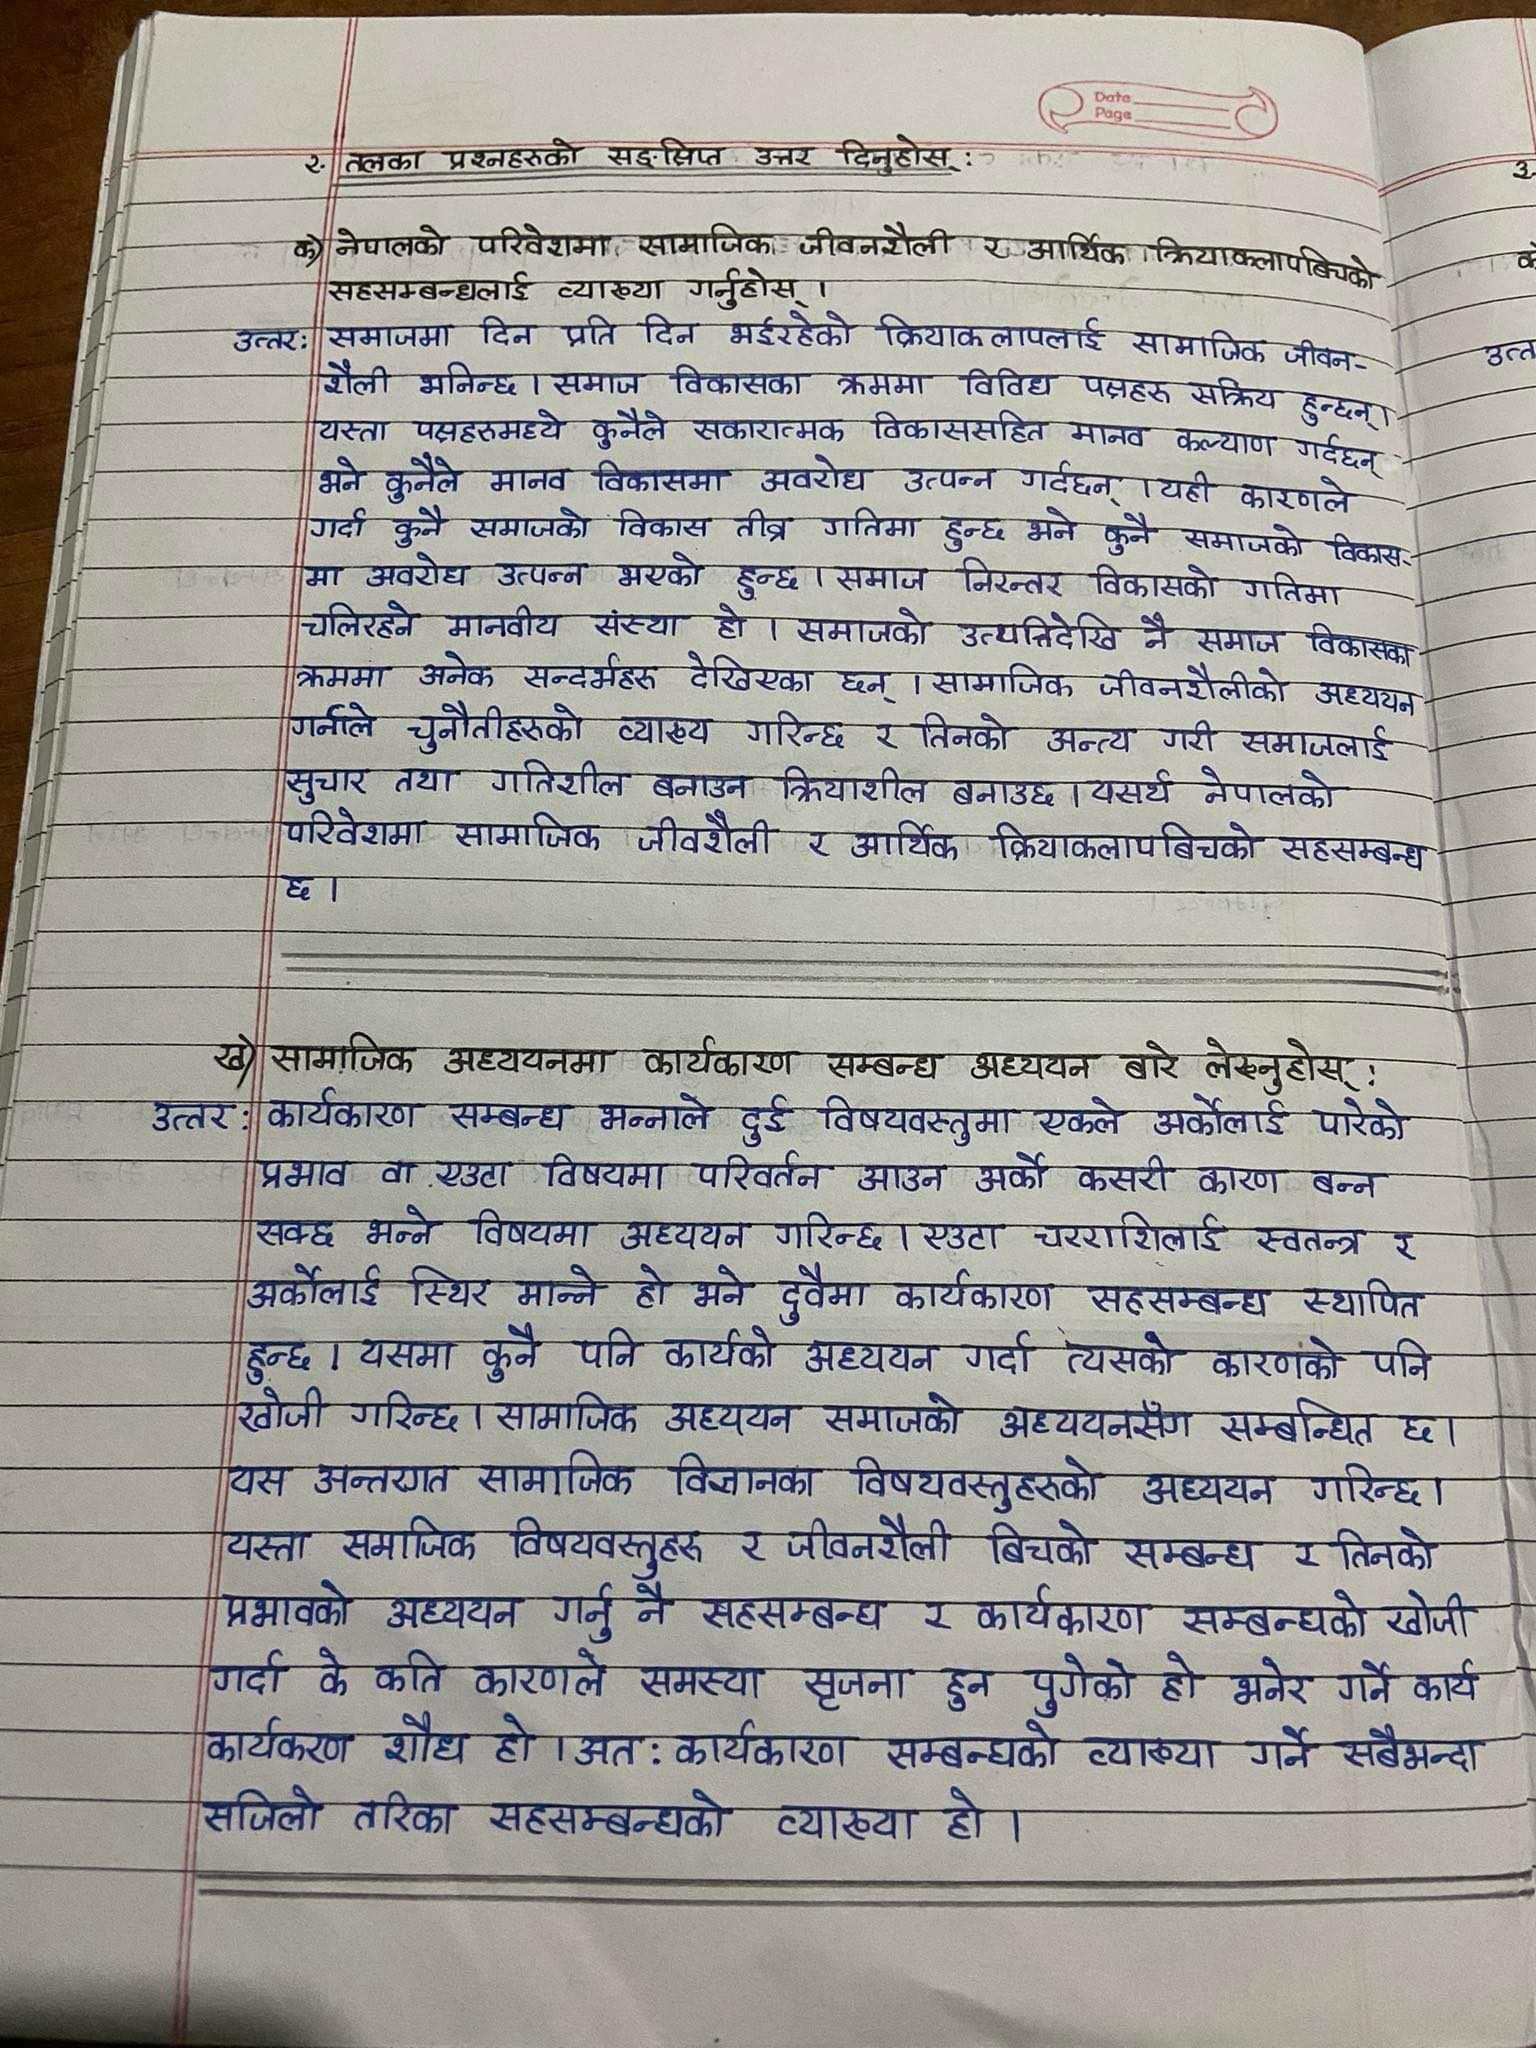text: (984, 819, 1265, 885), (1142, 227, 1394, 293), (482, 1785, 744, 1846), (847, 1450, 1104, 1509), (503, 1514, 707, 1577), (870, 306, 1108, 355), (1200, 1027, 1371, 1090), (991, 1397, 1196, 1448), (1173, 1585, 1371, 1638), (970, 1580, 1150, 1638), (879, 1717, 1062, 1772), (697, 1584, 891, 1635), (670, 1716, 845, 1772), (815, 1095, 1013, 1145), (403, 698, 589, 751), (1212, 1390, 1379, 1448), (1028, 1206, 1228, 1255), (197, 1711, 357, 1771), (784, 1511, 950, 1567), (478, 1448, 637, 1505), (1334, 1724, 1496, 1777), (1084, 1276, 1271, 1321), (1092, 664, 1292, 706), (666, 1450, 824, 1501), (470, 1646, 621, 1700), (1079, 1724, 1226, 1779), (266, 1026, 419, 1077), (770, 763, 928, 813), (210, 1576, 353, 1630), (265, 1085, 419, 1135), (816, 1390, 966, 1442), (240, 1256, 386, 1309), (445, 811, 608, 858), (889, 1268, 1055, 1313), (1192, 764, 1347, 813), (1275, 829, 1430, 877), (436, 1039, 618, 1079), (952, 610, 1120, 653), (1021, 1648, 1137, 1711), (518, 648, 668, 697), (1115, 1527, 1260, 1577), (336, 1514, 486, 1563), (639, 1035, 797, 1080), (628, 810, 773, 858), (791, 1658, 921, 1711), (1126, 314, 1263, 364), (978, 1514, 1099, 1571), (323, 269, 534, 302), (192, 1784, 328, 1834), (791, 603, 929, 651), (1136, 1463, 1275, 1511), (1238, 719, 1396, 761), (800, 1335, 941, 1382), (1300, 1459, 1436, 1508), (1008, 452, 1128, 506), (494, 1392, 644, 1435), (771, 1261, 878, 1322), (1300, 1279, 1438, 1326), (774, 1800, 921, 1843), (866, 411, 1046, 447), (1302, 619, 1428, 669), (628, 219, 783, 260), (834, 131, 958, 181), (1058, 1329, 1183, 1379), (532, 1150, 670, 1195), (1208, 1334, 1346, 1379), (589, 1092, 716, 1140), (792, 223, 958, 260), (379, 1592, 524, 1634), (278, 808, 428, 848), (658, 1326, 783, 1374), (1147, 1095, 1289, 1137), (349, 1384, 463, 1435), (636, 1658, 771, 1701), (845, 819, 963, 869), (487, 760, 628, 801), (466, 219, 611, 260), (466, 1206, 595, 1251), (1334, 1522, 1447, 1574), (610, 1214, 753, 1255), (1175, 516, 1307, 560), (686, 651, 813, 697), (411, 406, 566, 443), (1383, 1588, 1484, 1645), (692, 410, 852, 445), (771, 1209, 892, 1256), (662, 1393, 795, 1435), (1234, 472, 1359, 518), (295, 598, 423, 642), (445, 1095, 573, 1138), (1218, 1651, 1313, 1709), (379, 1709, 474, 1767), (928, 661, 1081, 697), (1249, 1218, 1368, 1263), (666, 361, 808, 398), (1079, 564, 1221, 601), (203, 1643, 294, 1701), (962, 1047, 1100, 1084), (949, 555, 1065, 598), (734, 708, 850, 751), (439, 598, 563, 639), (728, 311, 857, 350), (439, 137, 579, 173), (1310, 1095, 1412, 1143), (687, 1153, 824, 1188), (310, 1458, 453, 1492), (952, 361, 1063, 405), (684, 268, 808, 306), (352, 1792, 458, 1837), (749, 452, 870, 490), (403, 1261, 497, 1311), (236, 1385, 329, 1435), (476, 1321, 550, 1384), (352, 1330, 461, 1372), (374, 452, 466, 502), (608, 710, 716, 751), (815, 500, 926, 540), (957, 1326, 1041, 1379), (140, 1090, 232, 1138), (591, 460, 728, 492), (366, 1645, 449, 1698), (361, 552, 473, 590), (1187, 369, 1283, 414), (250, 1151, 357, 1192), (1028, 1097, 1129, 1138), (1238, 569, 1347, 608), (411, 358, 516, 398), (1021, 227, 1126, 268), (1167, 424, 1279, 461), (331, 223, 449, 258), (823, 1047, 941, 1082), (552, 1579, 618, 1642), (468, 506, 591, 540), (1291, 431, 1389, 472), (1083, 768, 1181, 810), (1078, 364, 1175, 406), (829, 558, 934, 597), (970, 1148, 1054, 1197), (603, 137, 728, 169), (223, 1453, 300, 1505), (1241, 1719, 1318, 1771), (1075, 1153, 1170, 1195), (1312, 677, 1418, 714), (586, 403, 673, 448), (915, 713, 1008, 755), (511, 1263, 600, 1306), (573, 1725, 658, 1771), (854, 1156, 945, 1198), (894, 460, 997, 497), (1294, 389, 1392, 427), (1409, 1658, 1489, 1705), (611, 505, 713, 542), (286, 701, 387, 739), (219, 1526, 316, 1564), (1037, 719, 1137, 756), (328, 319, 455, 348), (949, 777, 1063, 810), (615, 550, 705, 590), (645, 769, 758, 801), (684, 1263, 757, 1313), (733, 1089, 792, 1148), (1191, 1159, 1286, 1197), (916, 1214, 1000, 1256), (1113, 1037, 1187, 1084), (1368, 1335, 1442, 1382), (574, 1322, 644, 1372), (553, 273, 666, 303), (360, 1203, 442, 1245), (239, 1335, 318, 1379), (281, 763, 369, 801), (411, 648, 503, 685), (586, 605, 681, 640), (936, 1658, 997, 1713), (936, 1785, 991, 1846), (431, 1151, 513, 1192), (937, 510, 1013, 553), (489, 556, 589, 589), (252, 1213, 342, 1248), (1309, 1163, 1388, 1203), (292, 660, 390, 692), (1189, 622, 1283, 656), (829, 368, 933, 398), (316, 358, 397, 397), (1096, 511, 1160, 560), (1323, 529, 1407, 566), (1329, 1658, 1396, 1705), (729, 560, 808, 598), (547, 366, 644, 397), (1154, 1648, 1202, 1709), (386, 503, 453, 547), (489, 1709, 539, 1767), (1279, 334, 1354, 373), (313, 410, 389, 447), (1065, 416, 1150, 448), (833, 666, 904, 705), (387, 763, 465, 798), (307, 1642, 353, 1700), (1155, 718, 1223, 756), (731, 498, 789, 542), (487, 463, 570, 493), (303, 505, 369, 542), (1021, 506, 1083, 545), (557, 314, 624, 348), (1155, 468, 1217, 505), (347, 147, 424, 176), (637, 311, 700, 345), (278, 868, 328, 910), (631, 1579, 674, 1625), (315, 455, 363, 497), (629, 1259, 666, 1313), (749, 140, 820, 168), (232, 323, 298, 352), (729, 1524, 773, 1567), (1397, 1406, 1442, 1448), (1384, 1224, 1425, 1271), (478, 314, 536, 347), (207, 1035, 250, 1076), (915, 1588, 954, 1634), (710, 605, 757, 642), (1286, 1534, 1321, 1576), (1137, 611, 1170, 656), (807, 822, 836, 871), (298, 560, 345, 589), (384, 1151, 415, 1190), (979, 231, 1010, 268), (871, 719, 904, 753), (290, 234, 316, 261), (303, 152, 323, 185)
